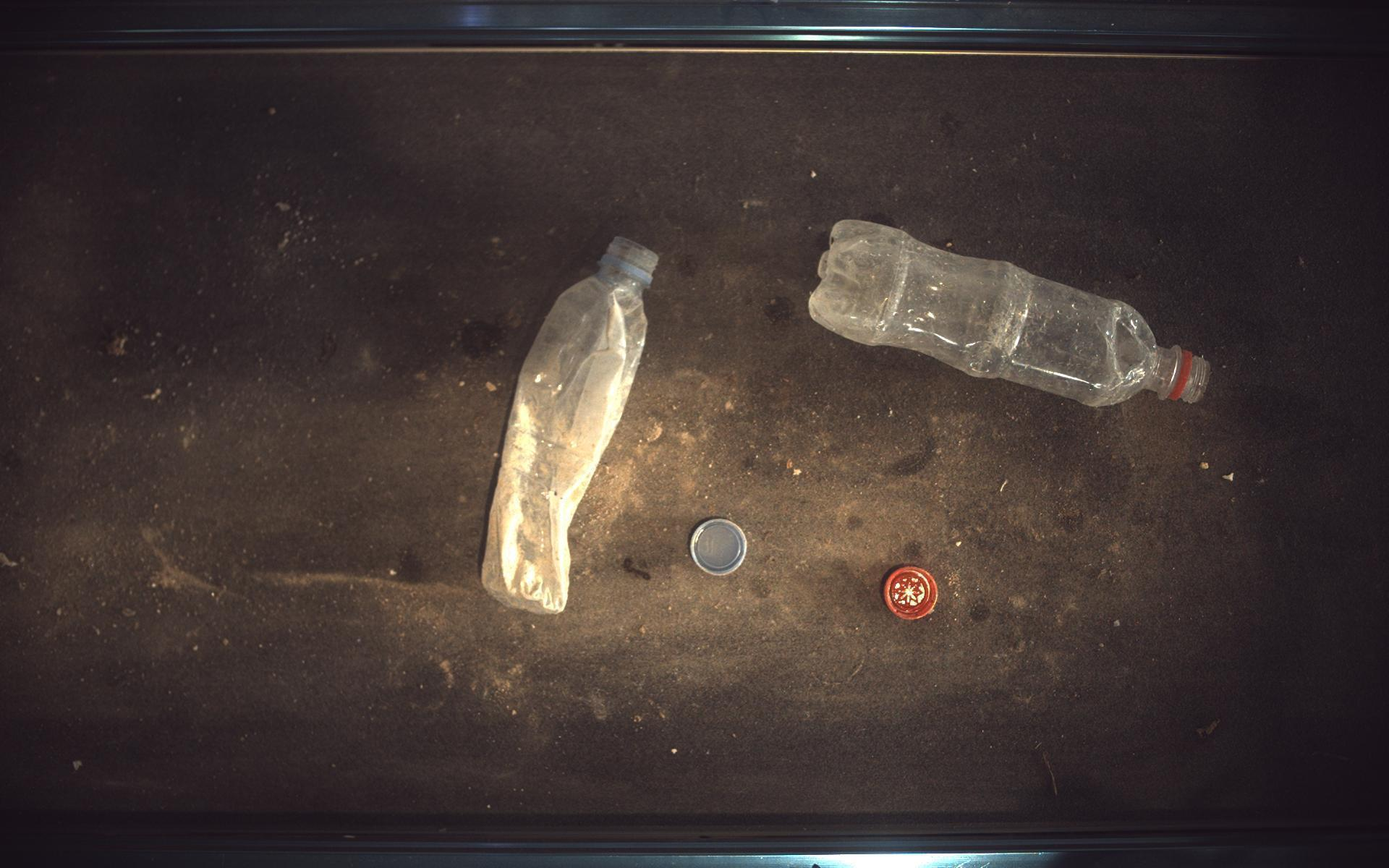general_w: (810, 219, 1212, 407), (482, 236, 659, 614), (690, 518, 749, 576), (885, 566, 939, 621)
